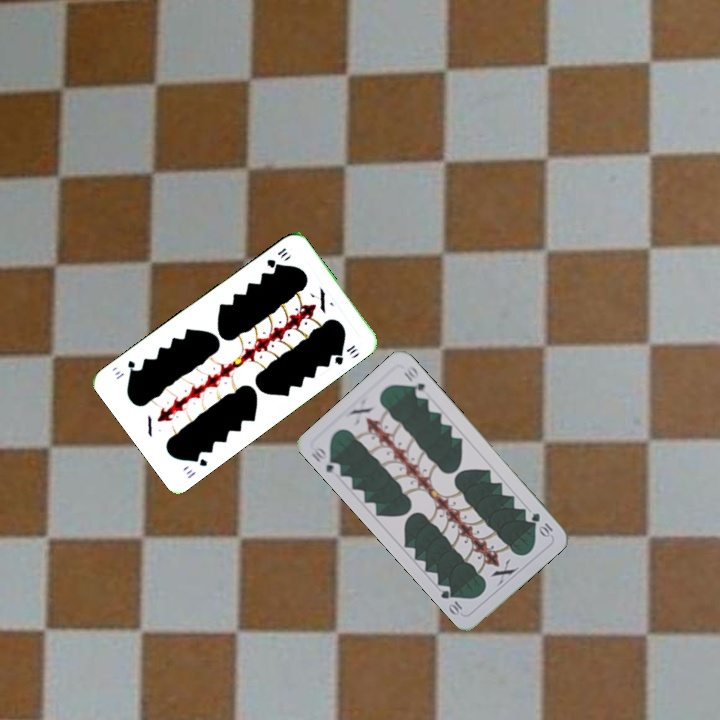G10: (306, 443, 344, 476), (527, 509, 555, 540), (181, 452, 210, 481), (263, 244, 291, 271)
